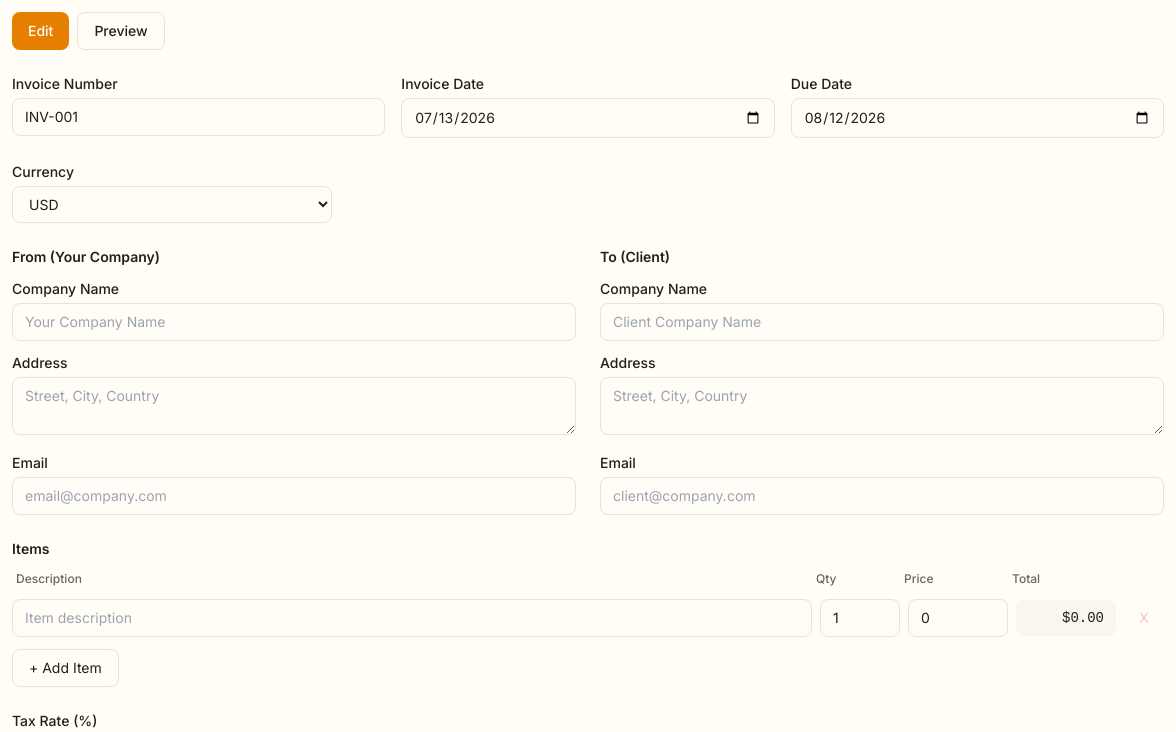
Test: InvoiceGenerator - Deep Tests › shows From and Bill To sections in preview
Set from company
Type "My Corp" into the field with placeholder "Your Company Name" at [294, 322], box [12,303,576,341]
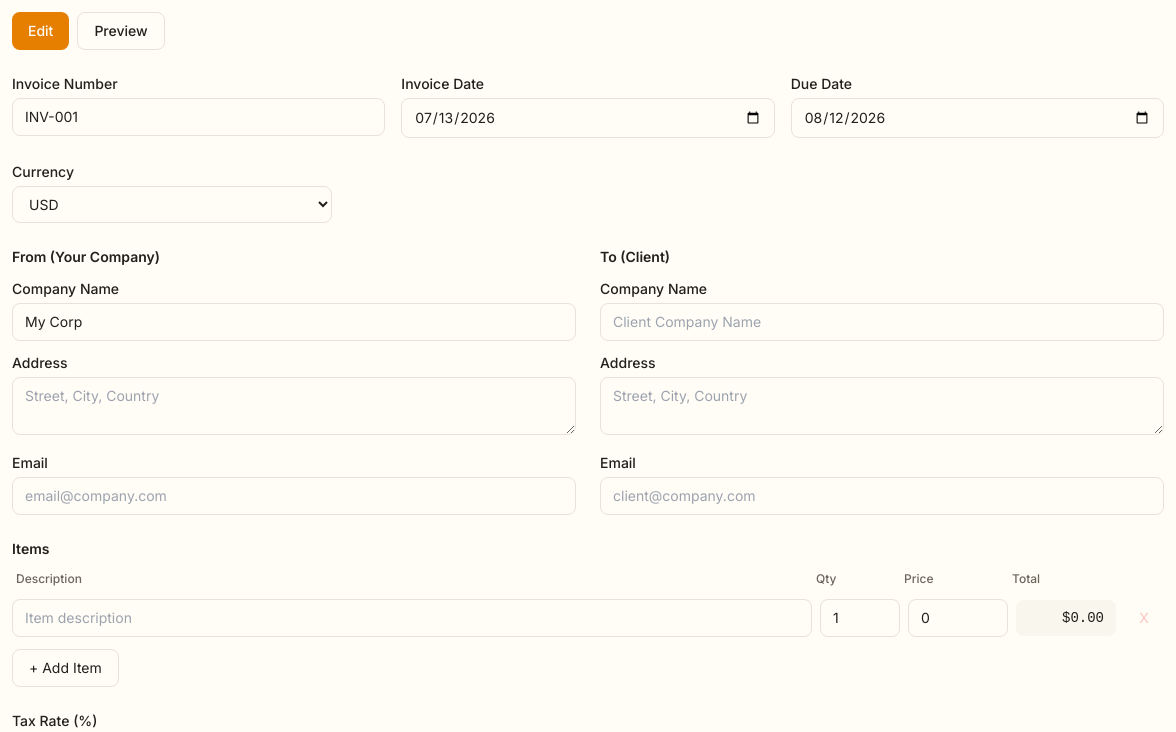
Type "Client Inc" into the field with placeholder "Client Company Name" at [882, 322], box [600,303,1164,341]
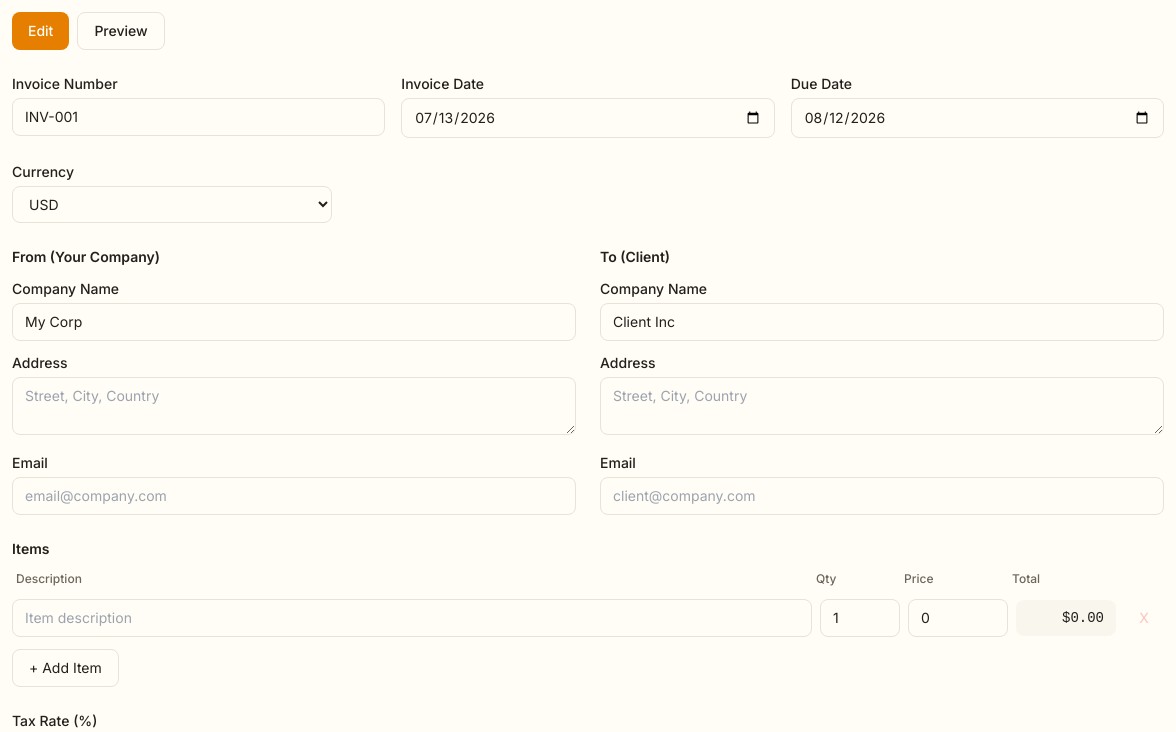
Click the button "Preview" at [121, 31], box [77,12,165,50]
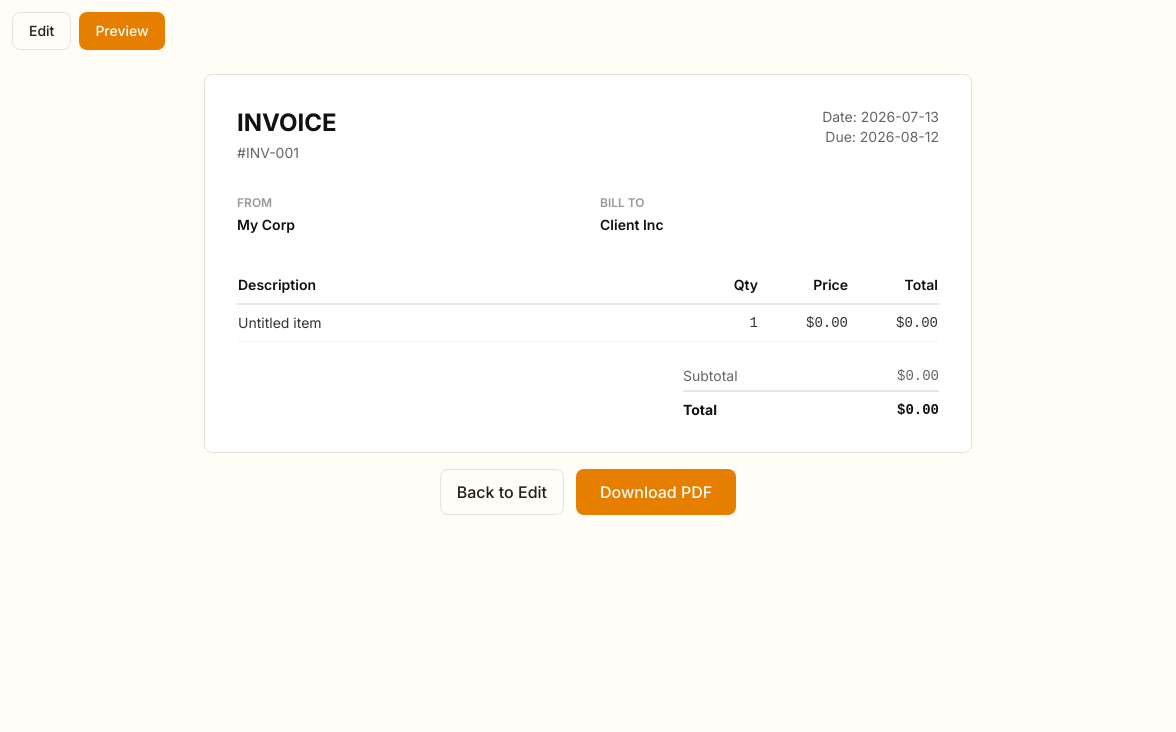
Expected: the text "My Corp" is shown, [237,216,295,233]
Expected: the text "Client Inc" is shown, [600,216,664,233]
Expected: the text "Bill To" is shown, [600,195,645,210]
